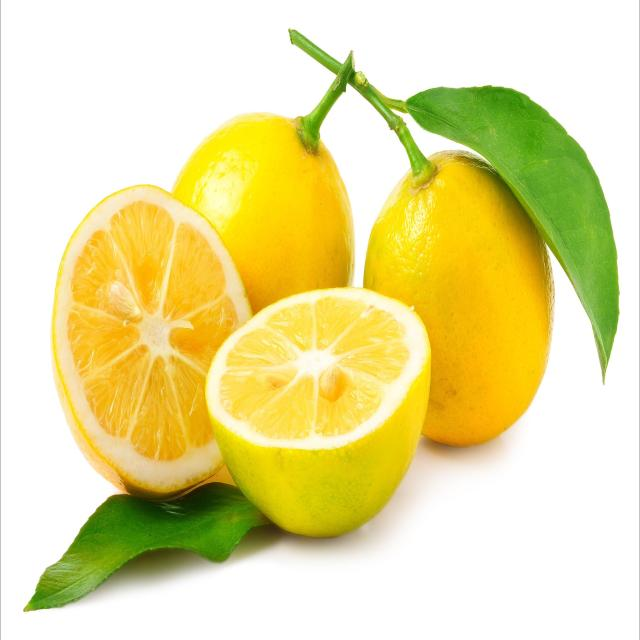lemon: (49, 179, 256, 504), (202, 279, 437, 543)
